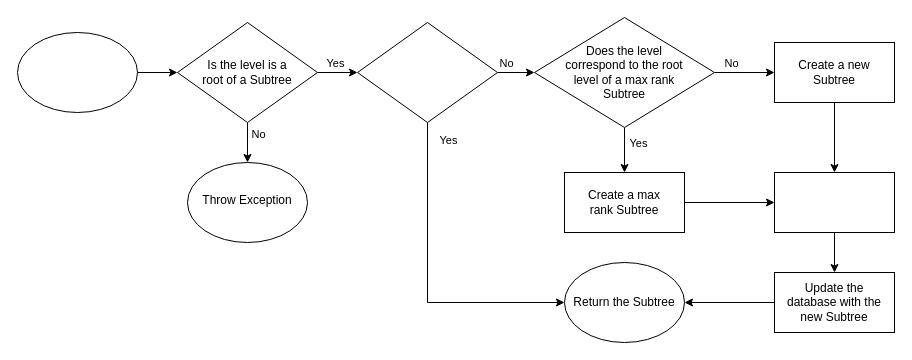
Some shapes in this 912 by 360 pixel diagram are drawn without their labels. Here are the shapes that lost their labels. From the top down, the centre of each, then its label:
pixel 77 72: A Subtree is asked
pixel 427 72: Does the Subtree exists in the database ?
pixel 834 202: Convert the Subtree to JSON binary
